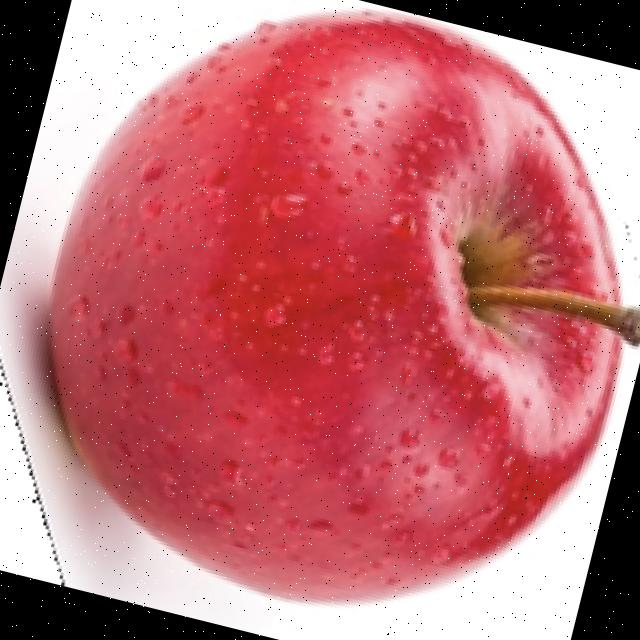apple: (0, 3, 640, 609)
